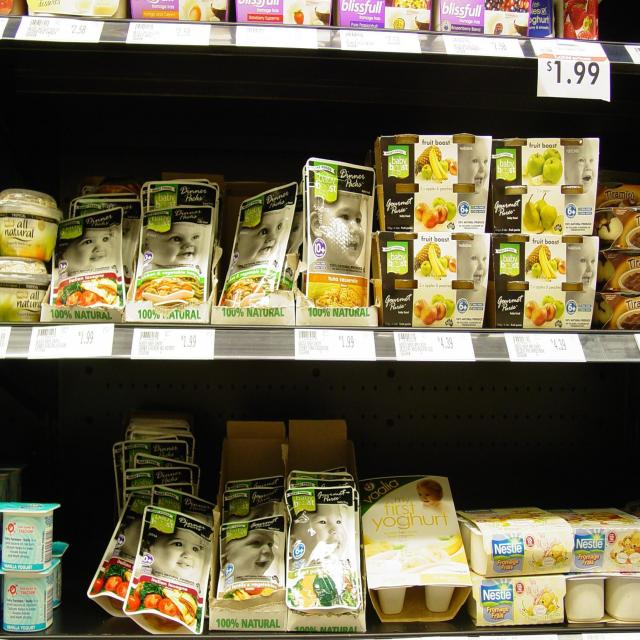void: (58, 522, 84, 624)
